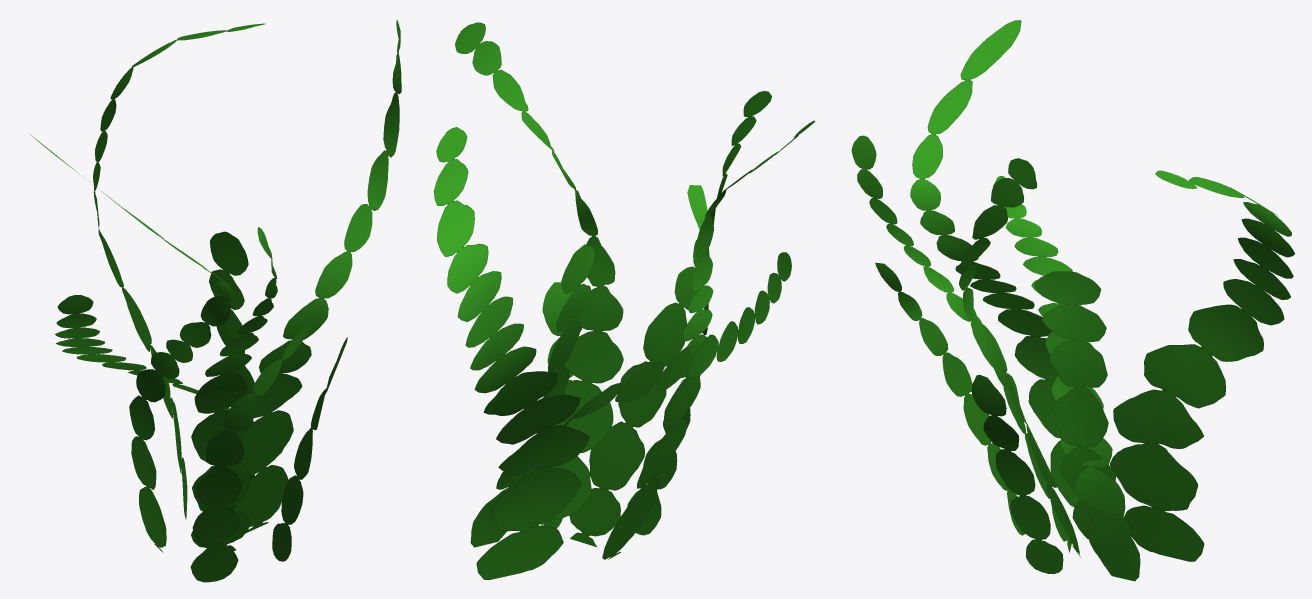
File: 19-Halimeda.fbx
3 renders of one model, left to right at view 1: azimuth 30°, elevation 25°; view 2: azimuth 150°, elevation 25°; view 3: azimuth 270°, elevation 25°, orthographic. The views are drawn at different scales.
Visible parts, largest first — view 1: 19-Halimeda_LOD00; view 2: 19-Halimeda_LOD00; view 3: 19-Halimeda_LOD00.
Part boxes in pixels (x1=…): 19-Halimeda_LOD00: x1=31, y1=20, x2=401, y2=582; 19-Halimeda_LOD00: x1=433, y1=22, x2=815, y2=579; 19-Halimeda_LOD00: x1=851, y1=20, x2=1294, y2=581.
Bounding box in the file's own units: 28.32 × 37.18 × 32.23.
